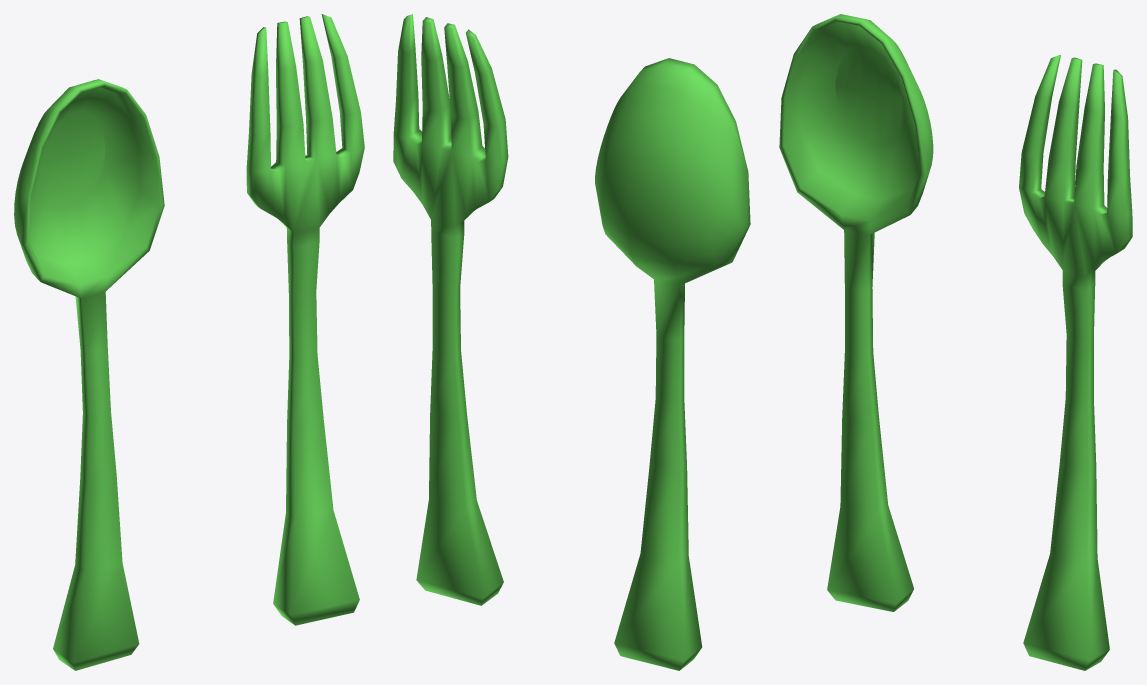
Rendered from SPOON&FORK_04.FBX.
The picture shows the model from 3 angles, left to right: view 1: azimuth 30°, elevation 25°; view 2: azimuth 150°, elevation 25°; view 3: azimuth 330°, elevation 25°; orthographic projection.
Parts seen in each view (by area): view 1: Sphere001, Object001; view 2: Sphere001, Object001; view 3: Sphere001, Object001.
Boxes of the visible parts, box(x1,y1,x2,y2) form: Sphere001: box(14, 79, 164, 670); Object001: box(246, 14, 364, 625); Sphere001: box(595, 58, 750, 670); Object001: box(393, 14, 508, 605); Sphere001: box(779, 14, 933, 611); Object001: box(1019, 55, 1132, 670).
Size of the model in its own units: 72.96 by 119 by 17.17.
